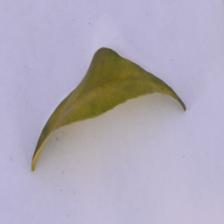greening: (80, 51, 150, 94)
